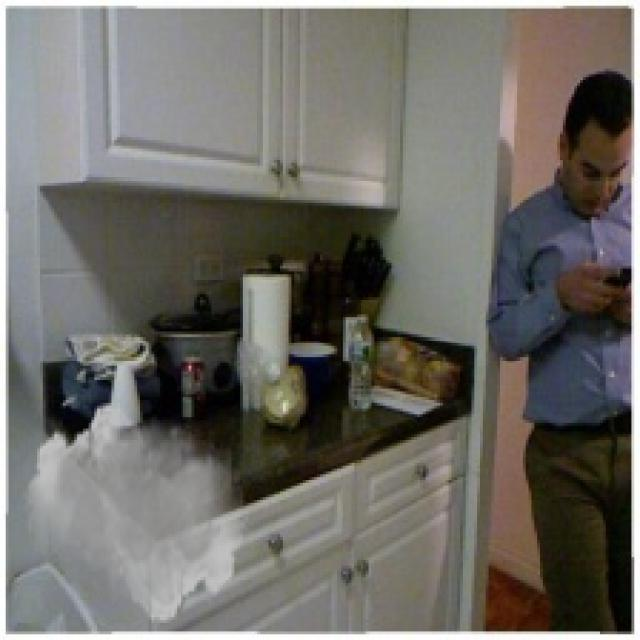Smoke: (22, 400, 248, 626)
